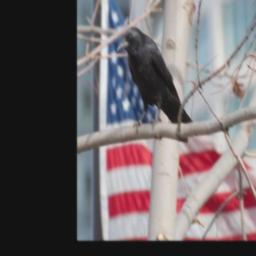Crow: (117, 24, 195, 138)
